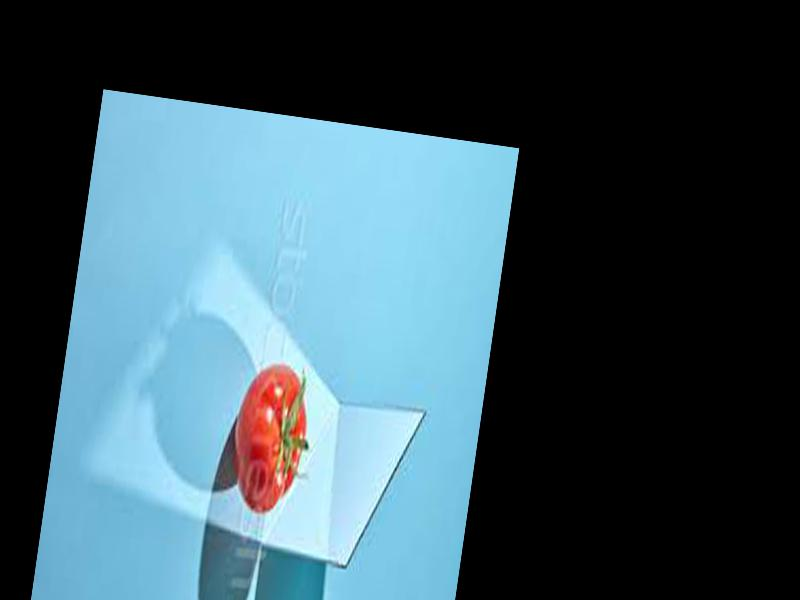Tomato: (224, 360, 314, 518)
